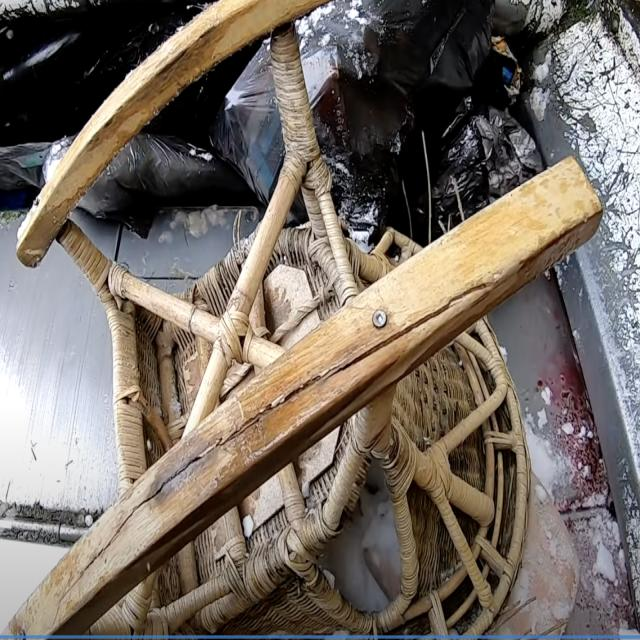bag: (346, 12, 546, 225)
furniture: (7, 45, 598, 640)
